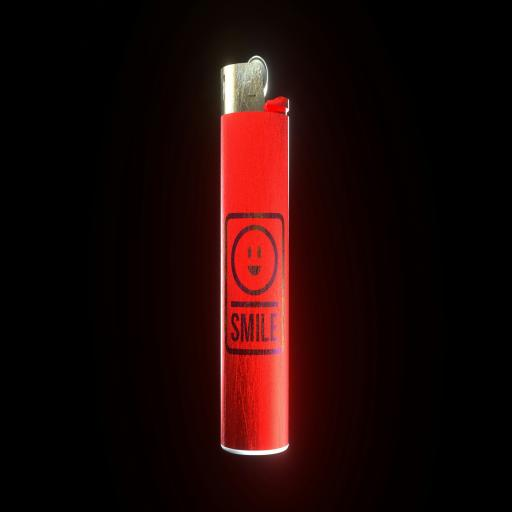lighter: (202, 44, 340, 468)
